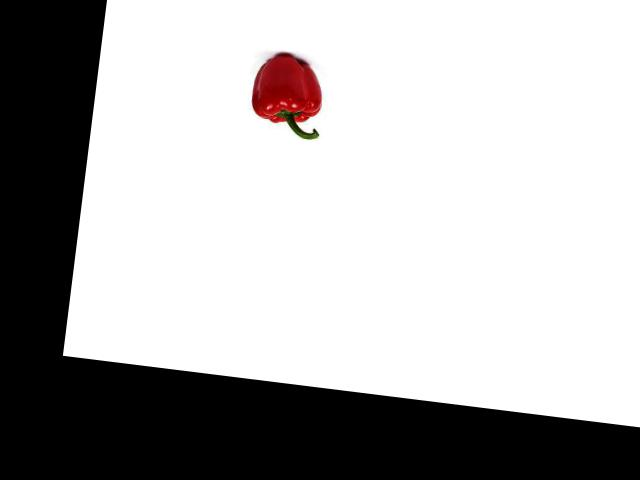bell_pepper: (241, 48, 332, 142)
